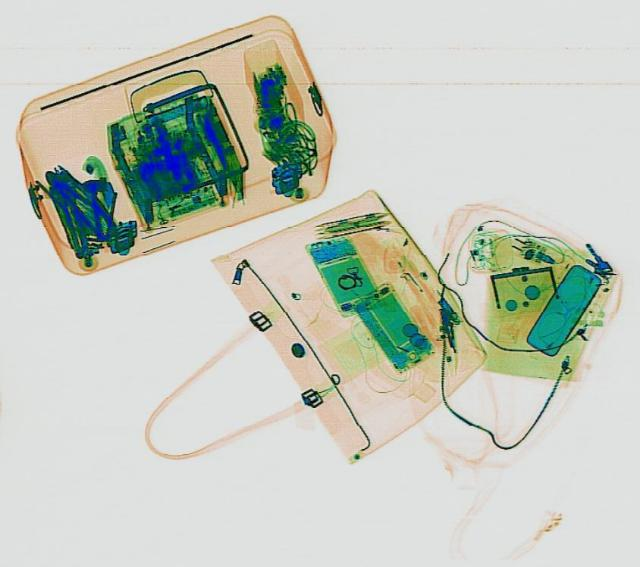Pliers: (32, 161, 128, 243)
